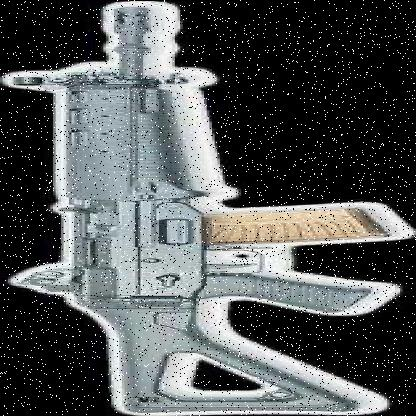rifle: (22, 7, 414, 416)
